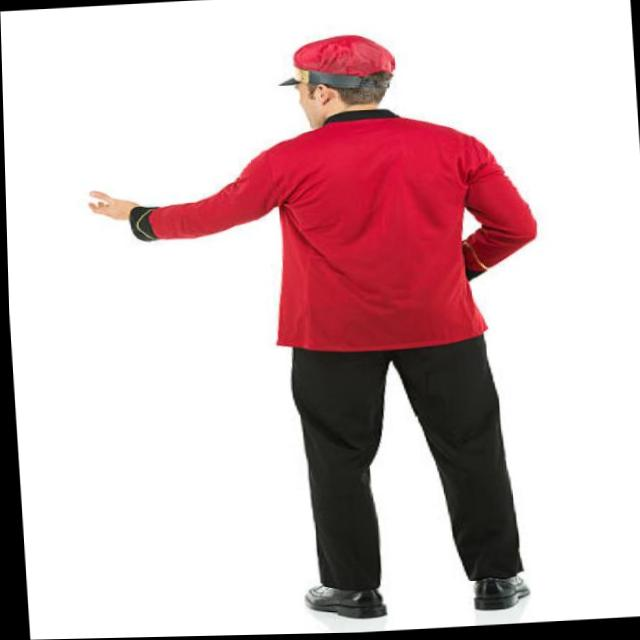no helmet: (244, 26, 415, 150)
